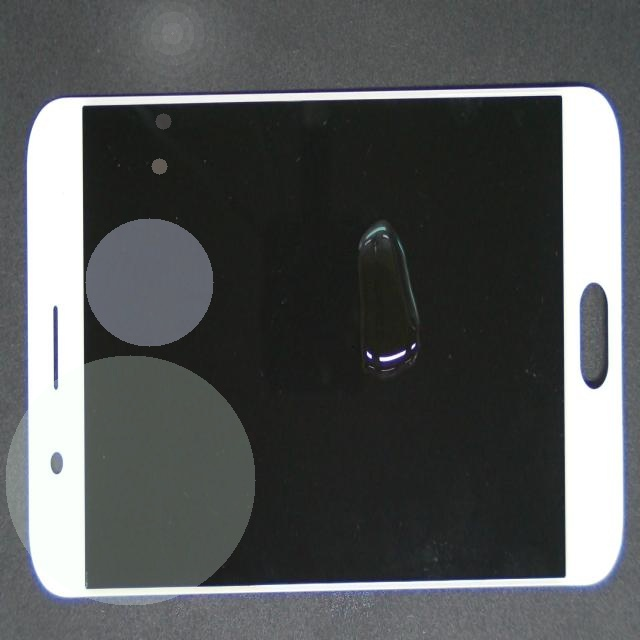oil: (211, 99, 561, 348)
